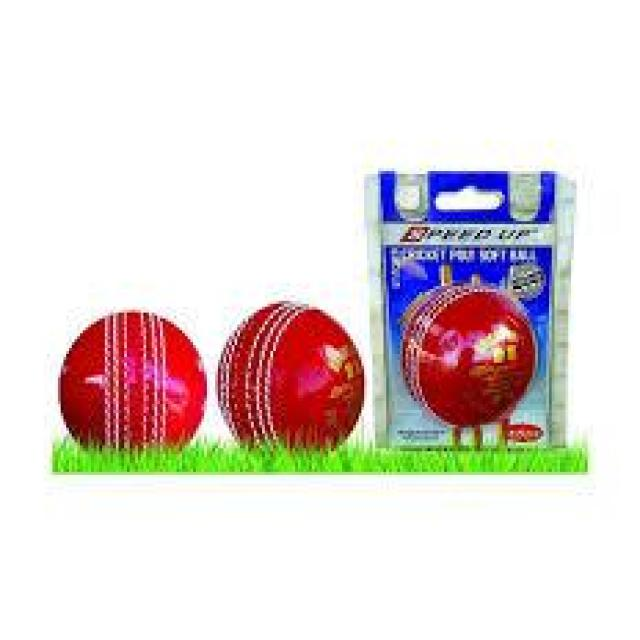ball: (215, 304, 367, 454), (58, 310, 210, 454), (403, 286, 538, 431)
